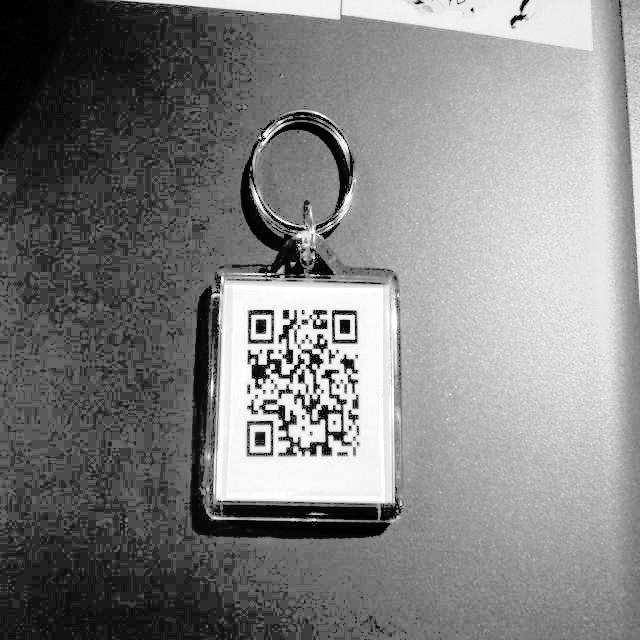qr_code: (246, 310, 360, 457)
